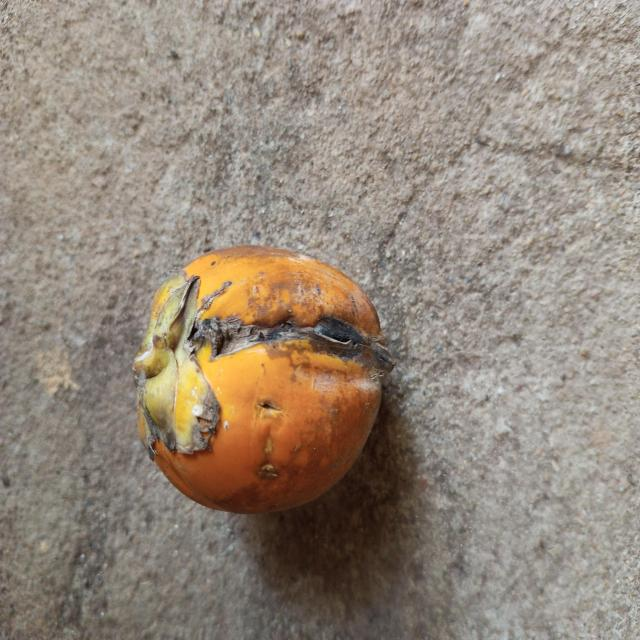damaged: (134, 247, 389, 517)
